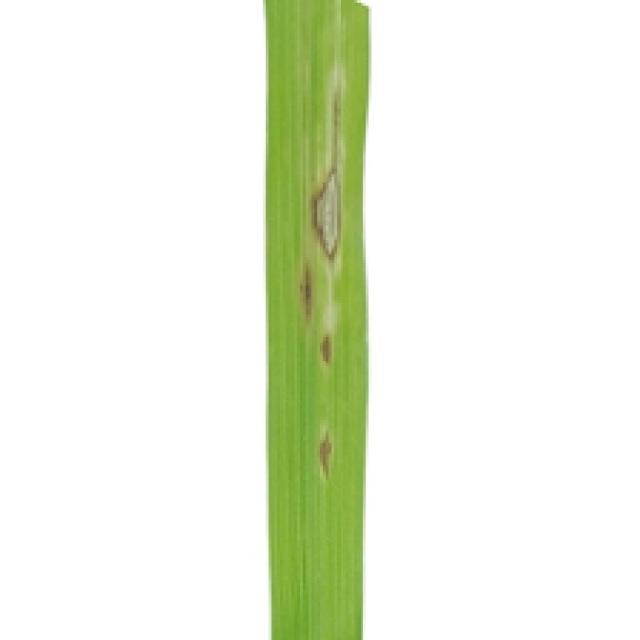Rice___Rice_Blast: (263, 0, 371, 637)
